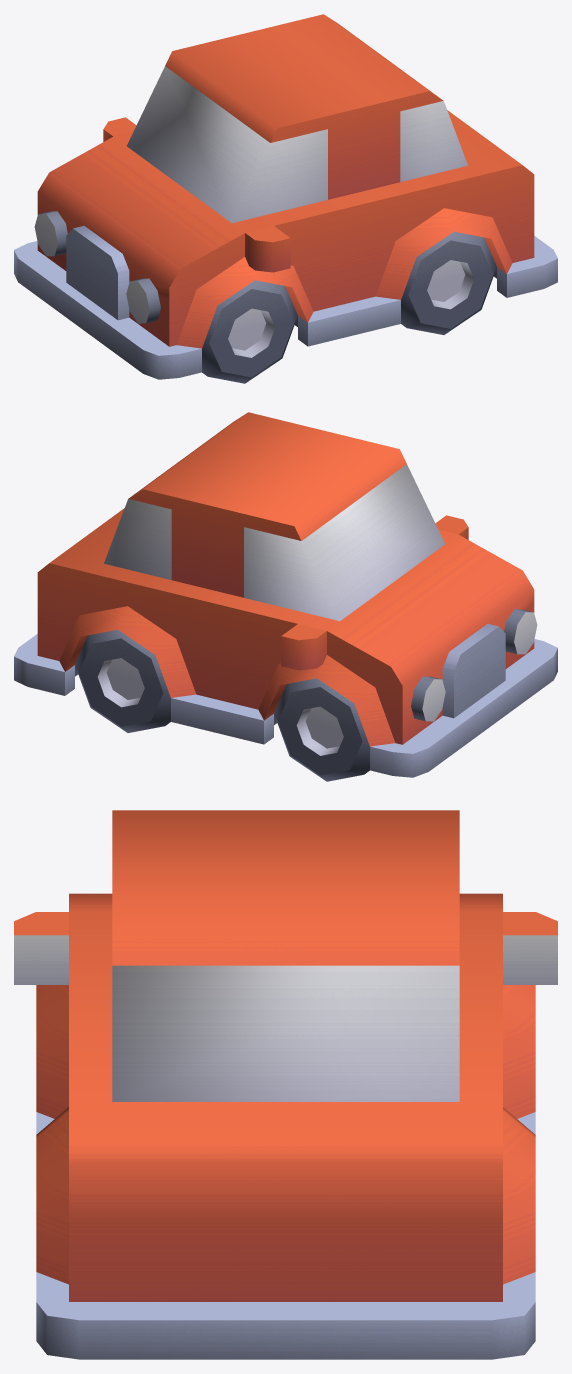
Rendered from vehicle.glb.
3 renders of one model, top to bottom at view 1: azimuth 30°, elevation 25°; view 2: azimuth 150°, elevation 25°; view 3: azimuth 270°, elevation 25°, orthographic. The views are drawn at different scales.
Visible parts, largest first — view 1: vehicle-col; view 2: vehicle-col; view 3: vehicle-col.
Part boxes in pixels (x1,y1,x2,y2): vehicle-col: (14, 14, 557, 383); vehicle-col: (14, 412, 557, 781); vehicle-col: (14, 810, 557, 1359).
Bounding box in the file's own units: 1.42 × 0.777 × 0.99.
Materials: 1 (1 with a texture image).
